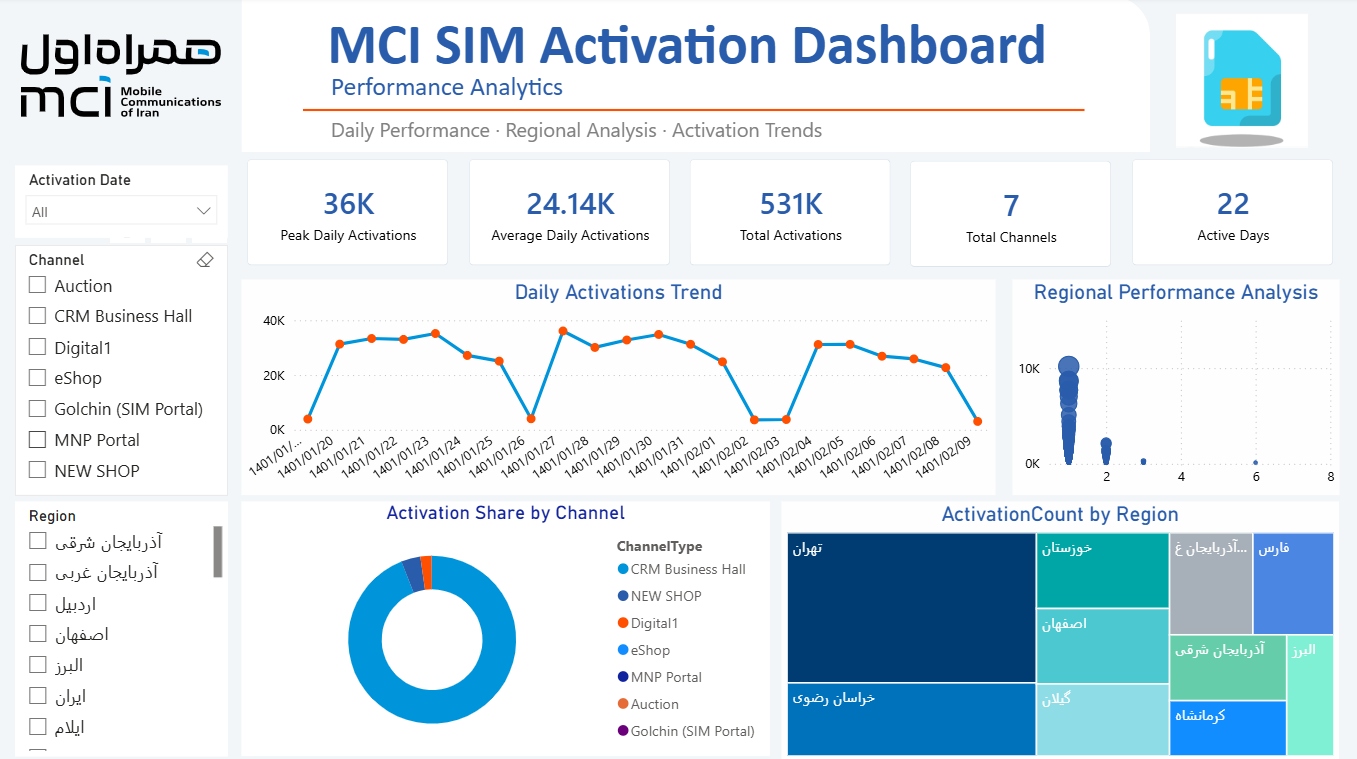

This screenshot's page, from the dashboard's own definition file:
{"tool":"powerbi","page":{"name":"Page 1","canvas":[1280,720],"ordinal":0},"visuals":[{"type":"lineStackedColumnComboChart","title":"Daily Activations Trend","fields":{"Category":["DimDate.ActiveDate"],"Y2":["Sum(FactActivation.ActivationCount)"]},"box":[230.2,266.5,708.6,202.9],"z":0},{"type":"slicer","fields":{"Values":["DimRegion.RegionName"]},"box":[16.7,475.5,199.9,239.2],"z":1000},{"type":"slicer","fields":{"Values":["DimChannel.ChannelType"]},"box":[16.7,234.7,199.9,234.7],"z":2000},{"type":"slicer","fields":{"Values":["DimDate.ActiveDate"]},"box":[16.7,159,199.9,68.1],"z":3000},{"type":"cardVisual","title":"Total Activations","fields":{"Data":["DimChannel.Total Activations"]},"box":[645.8,148.4,199.9,110.5],"z":4000},{"type":"cardVisual","fields":{"Data":["Measures (2).Average Daily Activations"]},"box":[438,148.4,199.9,110.5],"z":5000},{"type":"cardVisual","fields":{"Data":["Measures (2).Peak Daily Activations"]},"box":[230.2,148.4,199.9,110.5],"z":6000},{"type":"treemap","title":"ActivationCount by Region","fields":{"Group":["DimRegion.RegionName"],"Values":["Sum(FactActivation.ActivationCount)"]},"box":[737.4,475.5,523.9,243.8],"z":7000},{"type":"shape","box":[230.2,0,854,146.9],"z":8000},{"type":"image","box":[22.7,1.5,187.8,146.9],"z":9000},{"type":"textbox","box":[287.6,7,721.9,80.4],"z":10000},{"type":"textbox","box":[308.8,64.9,276.4,43.7],"z":11000},{"type":"shape","box":[287.6,87.4,734.6,39.5],"z":12000},{"type":"textbox","box":[308.8,107.2,518.9,39.5],"z":13000},{"type":"donutChart","title":"Activation Share by Channel","fields":{"Category":["DimChannel.ChannelType"],"Y":["Sum(FactActivation.ActivationCount)"]},"box":[230.2,475.5,496.7,239.2],"z":14000},{"type":"cardVisual","fields":{"Data":["Measures (2).Total Channels"]},"box":[853.6,149.9,199.9,110.5],"z":14001},{"type":"cardVisual","fields":{"Data":["Measures (2).Active Days"]},"box":[1061.5,148.4,199.9,110.5],"z":14002},{"type":"scatterChart","title":"Regional Performance Analysis","fields":{"Category":["FactActivation.ActivationCount"],"X":["Measures (2).Active Channels"],"Y":["Sum(FactActivation.ActivationCount)"],"Size":["Sum(FactActivation.ActivationCount)"]},"box":[953.9,266.5,307.4,202.9],"z":14003},{"type":"image","box":[1108.2,12.7,124.1,133.9],"z":14004}]}

Visuals, with their boxes in screenshot pixels (x1, y1, x2, y2), scaled from the page's 1280x720 canvas onto the 1357x759 screenshot:
"Daily Activations Trend" lineStackedColumnComboChart: [244,281,995,495]
slicer - DimRegion.RegionName: [18,501,230,753]
slicer - DimChannel.ChannelType: [18,247,230,495]
slicer - DimDate.ActiveDate: [18,168,230,239]
"Total Activations" cardVisual: [685,156,897,273]
cardVisual - Measures (2).Average Daily Activations: [464,156,676,273]
cardVisual - Measures (2).Peak Daily Activations: [244,156,456,273]
"ActivationCount by Region" treemap: [782,501,1337,758]
shape: [244,0,1149,155]
image: [24,2,223,156]
textbox: [305,7,1070,92]
textbox: [327,68,620,114]
shape: [305,92,1084,134]
textbox: [327,113,877,155]
"Activation Share by Channel" donutChart: [244,501,771,753]
cardVisual - Measures (2).Total Channels: [905,158,1117,275]
cardVisual - Measures (2).Active Days: [1125,156,1337,273]
"Regional Performance Analysis" scatterChart: [1011,281,1337,495]
image: [1175,13,1306,155]
